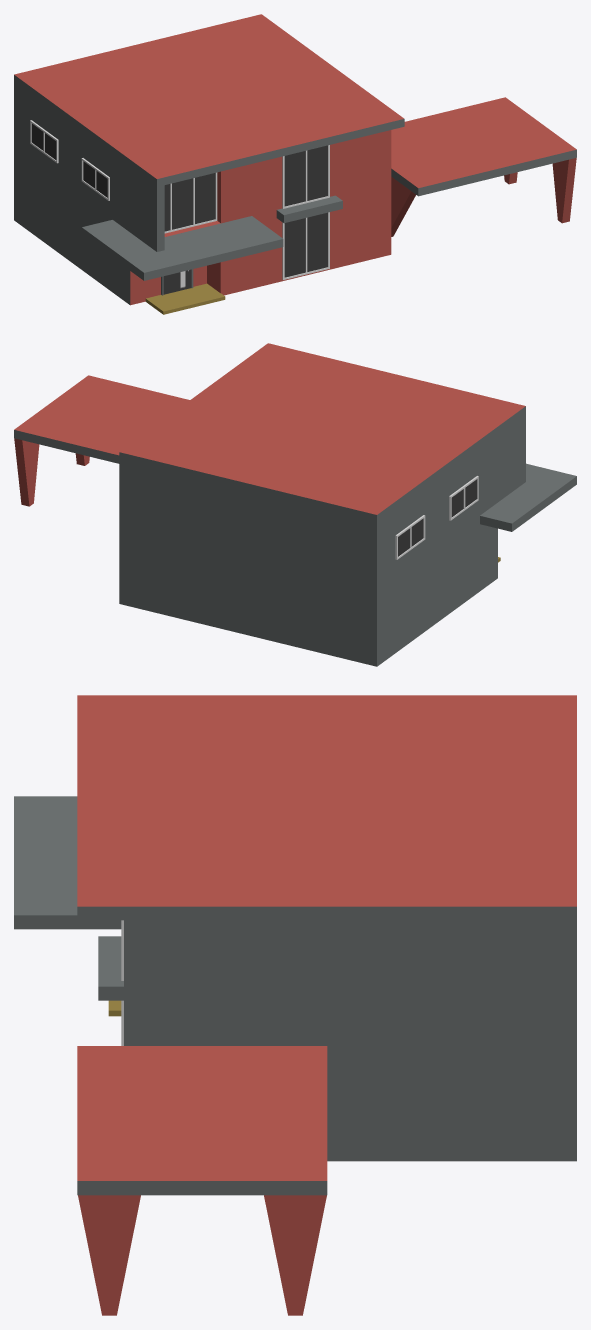
The model's file is building-house-04-color03.glb.
3 renders of one model, top to bottom at view 1: azimuth 30°, elevation 25°; view 2: azimuth 150°, elevation 25°; view 3: azimuth 270°, elevation 25°, orthographic. The views are drawn at different scales.
Visible parts, largest first — view 1: model; view 2: model; view 3: model.
Boxes of the visible parts, left/top/right/bottom form: model: left=14, top=14, right=576, bottom=314; model: left=14, top=343, right=576, bottom=666; model: left=14, top=695, right=576, bottom=1315.
Bounding box in the file's own units: 24.77 × 7.87 × 15.32.
Materials: 1 (1 with a texture image).
